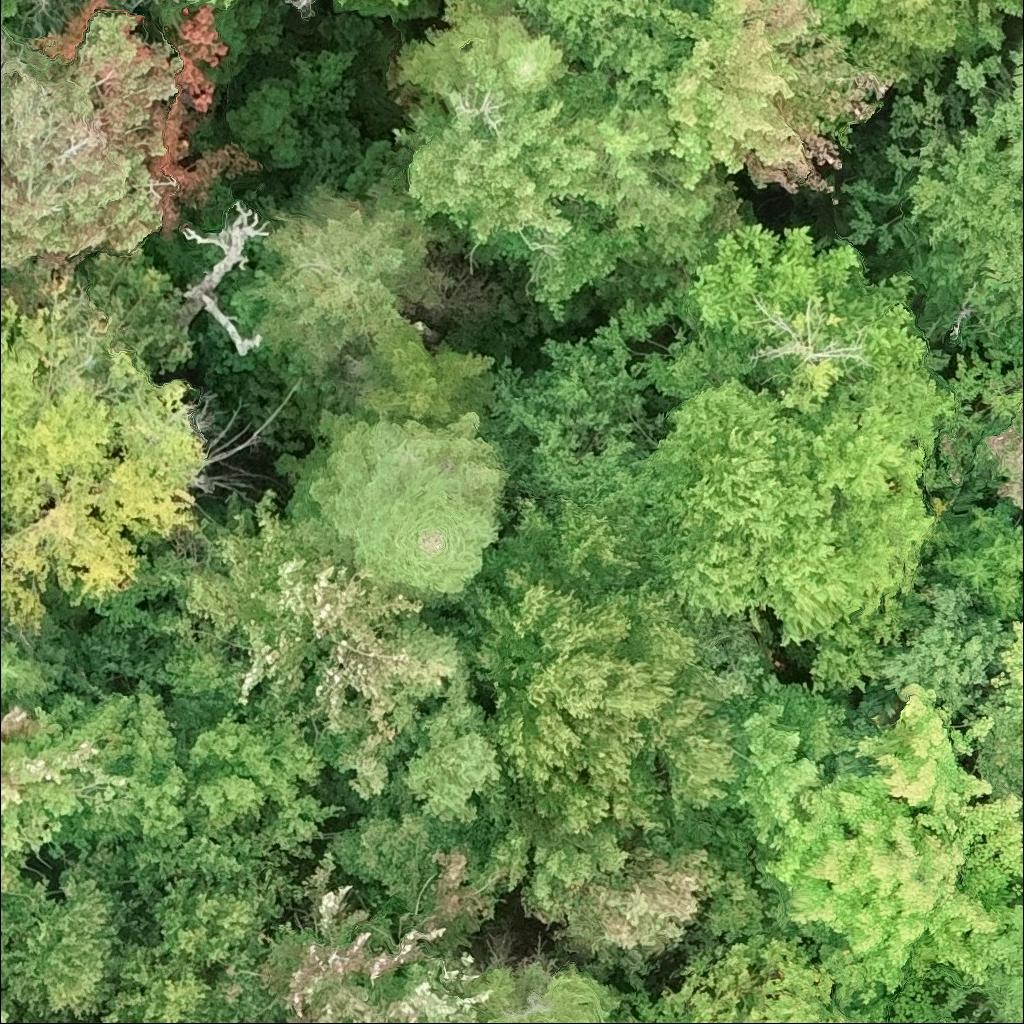crown: (607, 359, 958, 649), (454, 491, 707, 846), (757, 682, 1023, 1011), (0, 285, 207, 638), (0, 0, 264, 272), (180, 492, 426, 736), (686, 219, 931, 414), (652, 0, 898, 194), (275, 408, 508, 611), (255, 848, 499, 1023), (254, 183, 449, 374), (70, 868, 284, 1023), (401, 96, 616, 246), (568, 76, 729, 275), (317, 611, 462, 802), (530, 846, 747, 969), (728, 672, 874, 853), (0, 845, 146, 1023), (0, 703, 135, 894), (628, 933, 874, 1023), (876, 576, 1013, 719), (395, 658, 507, 828), (395, 0, 572, 106), (177, 196, 277, 357), (520, 0, 686, 91), (355, 323, 498, 423), (332, 813, 455, 925), (925, 380, 1023, 512), (925, 504, 1023, 631), (959, 617, 1023, 802), (514, 818, 630, 910), (852, 0, 973, 85), (472, 958, 628, 1023), (950, 31, 1023, 169), (978, 892, 1023, 1023), (0, 636, 69, 715), (468, 823, 537, 893), (285, 0, 316, 22), (0, 995, 21, 1023), (124, 0, 158, 7), (216, 0, 227, 10), (1018, 880, 1023, 890), (60, 1023, 66, 1023)
